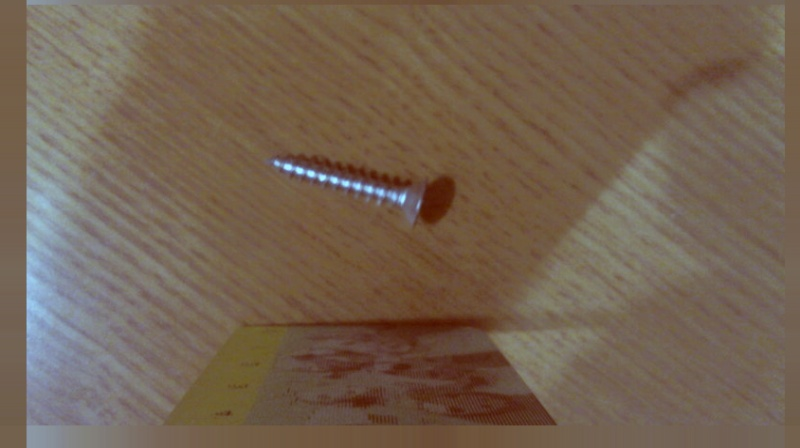S001: (264, 147, 431, 232)
